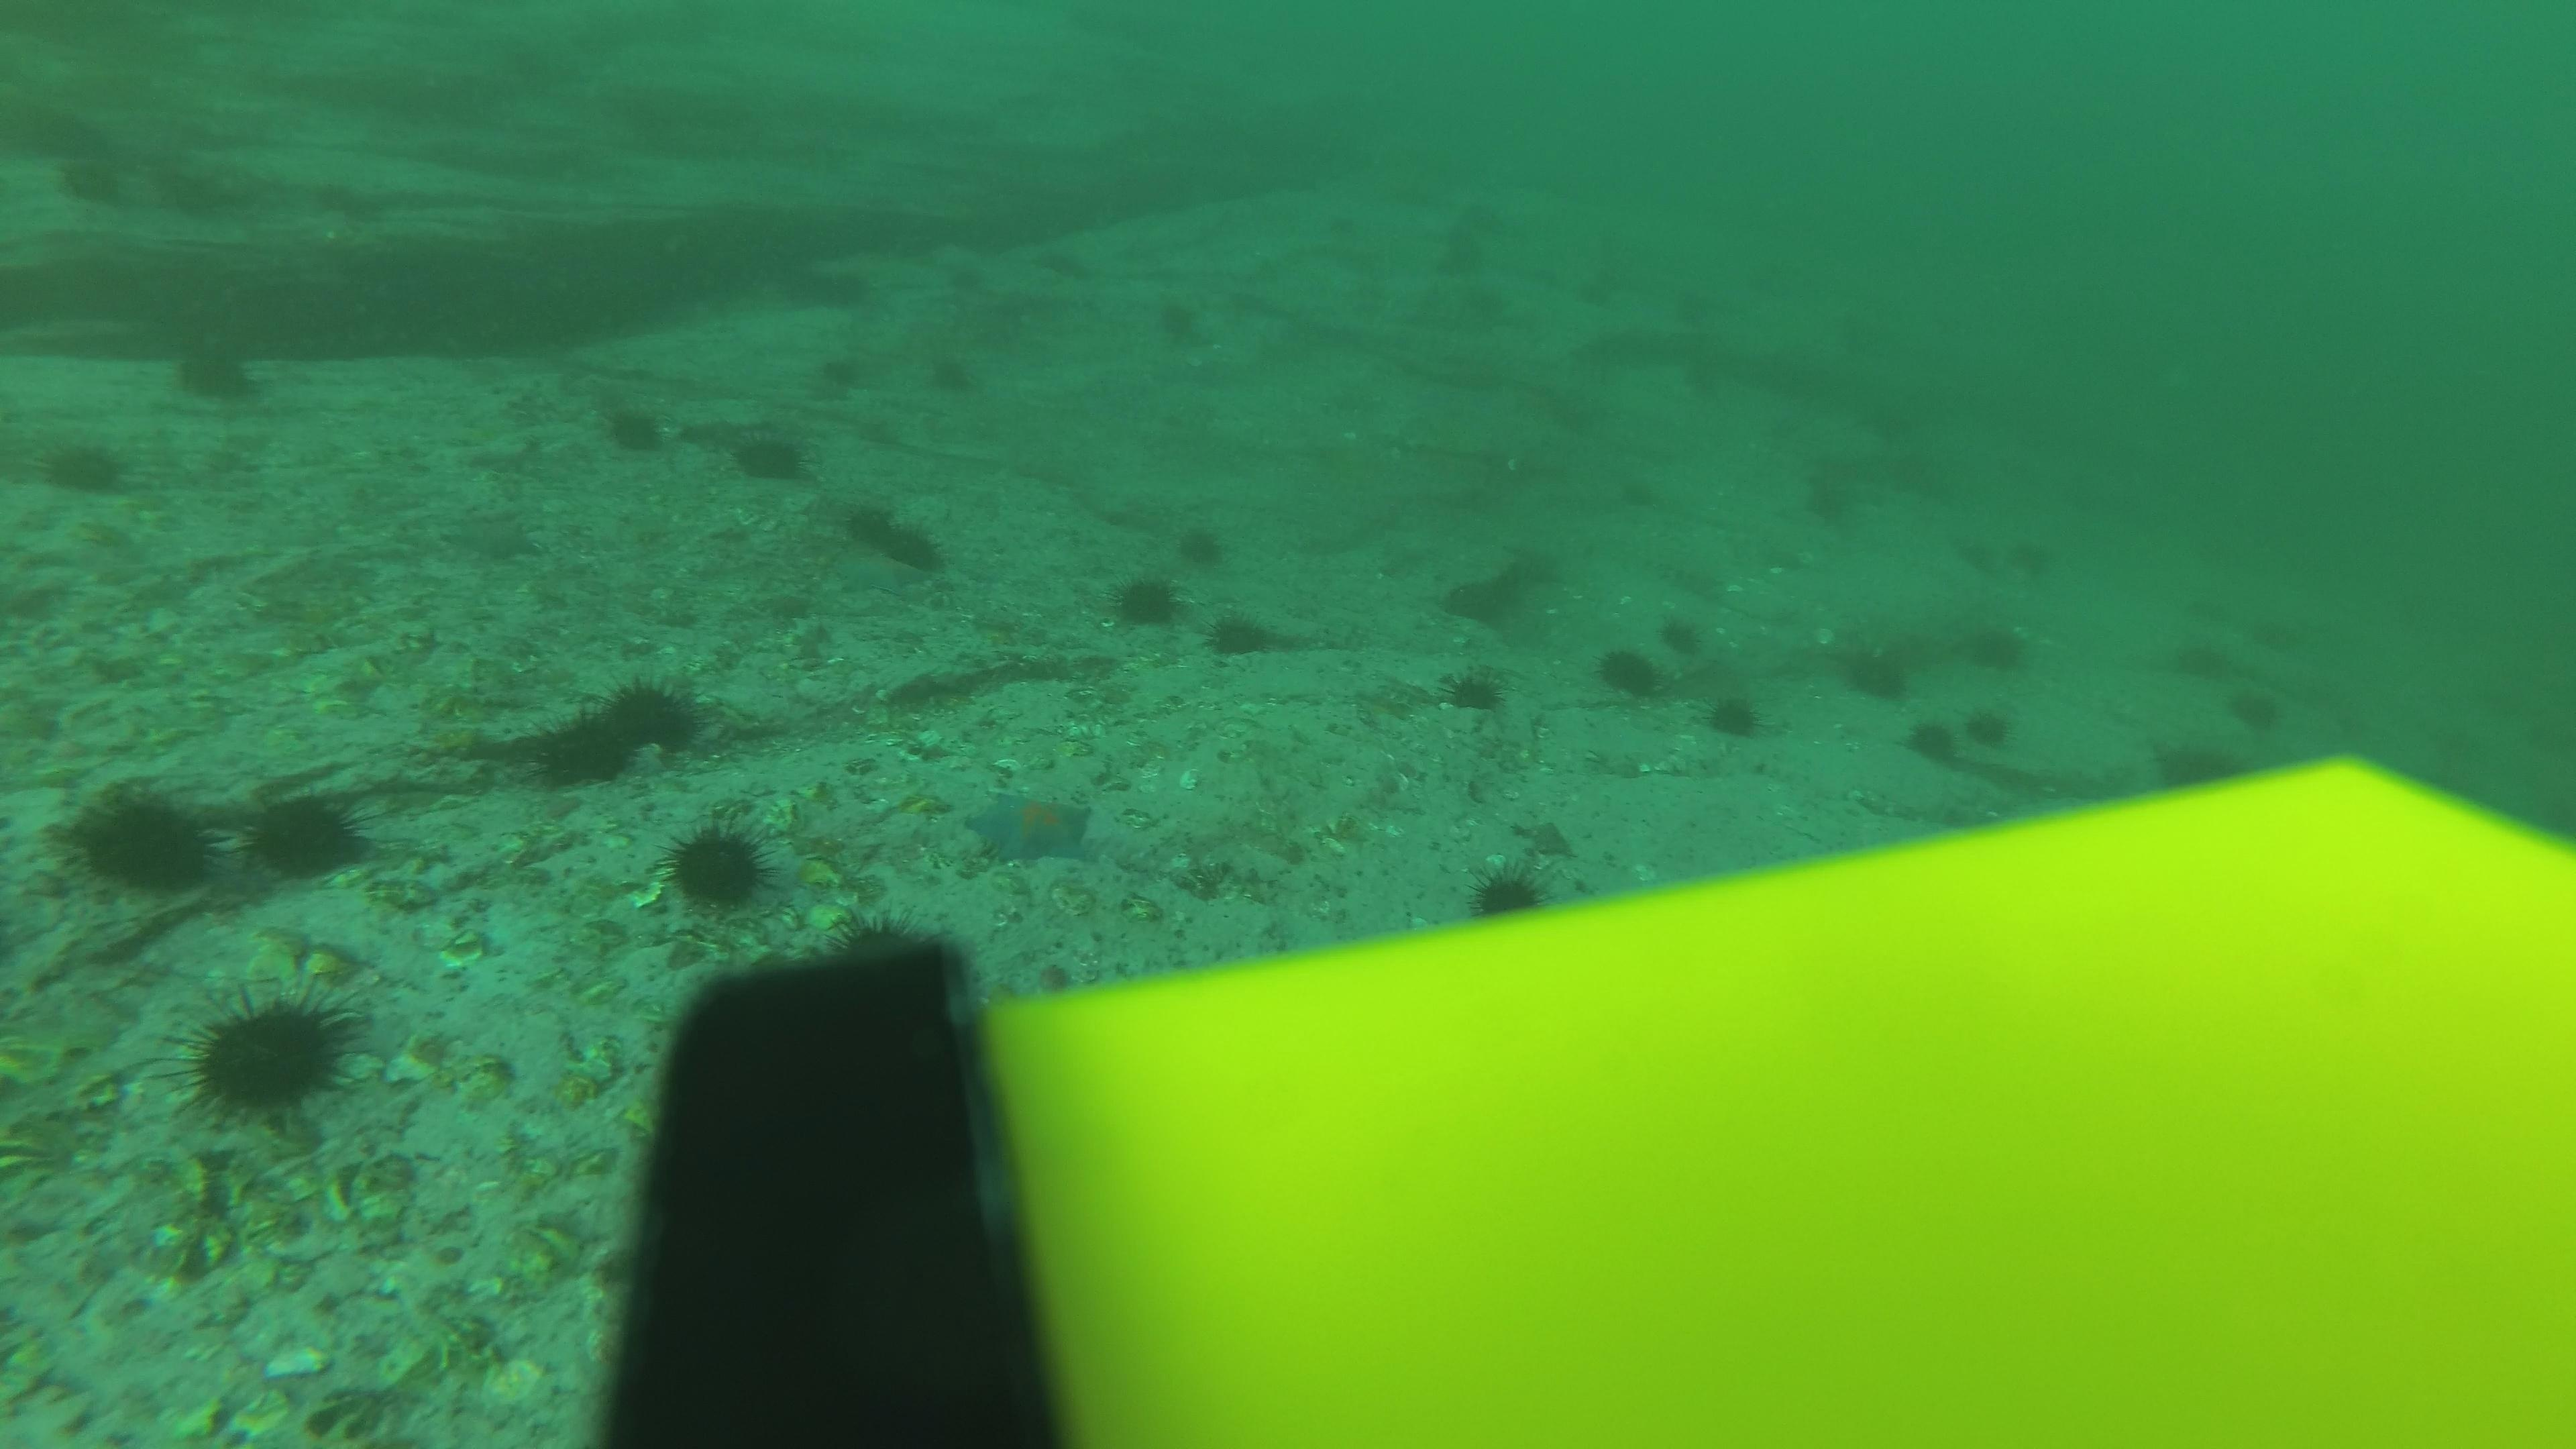echinus: (175, 977, 363, 1123), (57, 778, 221, 901), (241, 782, 372, 885), (656, 816, 780, 918), (586, 672, 699, 761), (518, 711, 632, 800), (166, 327, 267, 409), (35, 428, 133, 502), (1463, 860, 1555, 927), (725, 421, 814, 488), (1836, 633, 1916, 706), (1104, 566, 1185, 635), (596, 395, 674, 460), (2162, 729, 2242, 789), (2227, 690, 2307, 750), (2166, 639, 2245, 699), (2242, 605, 2321, 665), (1962, 616, 2033, 678), (1203, 607, 1276, 663), (1438, 662, 1509, 718), (1598, 642, 1660, 704), (835, 497, 906, 550), (1702, 686, 1767, 743), (879, 524, 950, 575), (1902, 711, 1964, 770), (1169, 518, 1230, 577), (1033, 241, 1095, 292), (810, 345, 874, 395), (938, 257, 1001, 306), (1566, 267, 1629, 317), (924, 350, 985, 400), (1138, 295, 1200, 345), (1311, 198, 1373, 248), (1454, 189, 1516, 239), (1442, 276, 1504, 326), (1674, 292, 1736, 341), (1744, 264, 1806, 313), (1824, 303, 1886, 352), (1801, 494, 1867, 536), (1670, 350, 1736, 393), (1962, 704, 2019, 752), (2005, 534, 2068, 577), (1881, 449, 1944, 492), (1605, 474, 1668, 517), (1748, 414, 1813, 455), (1656, 616, 1709, 656)
starfish: (962, 786, 1099, 870), (444, 506, 543, 566), (830, 541, 927, 602), (872, 778, 952, 828), (1516, 812, 1575, 860)
